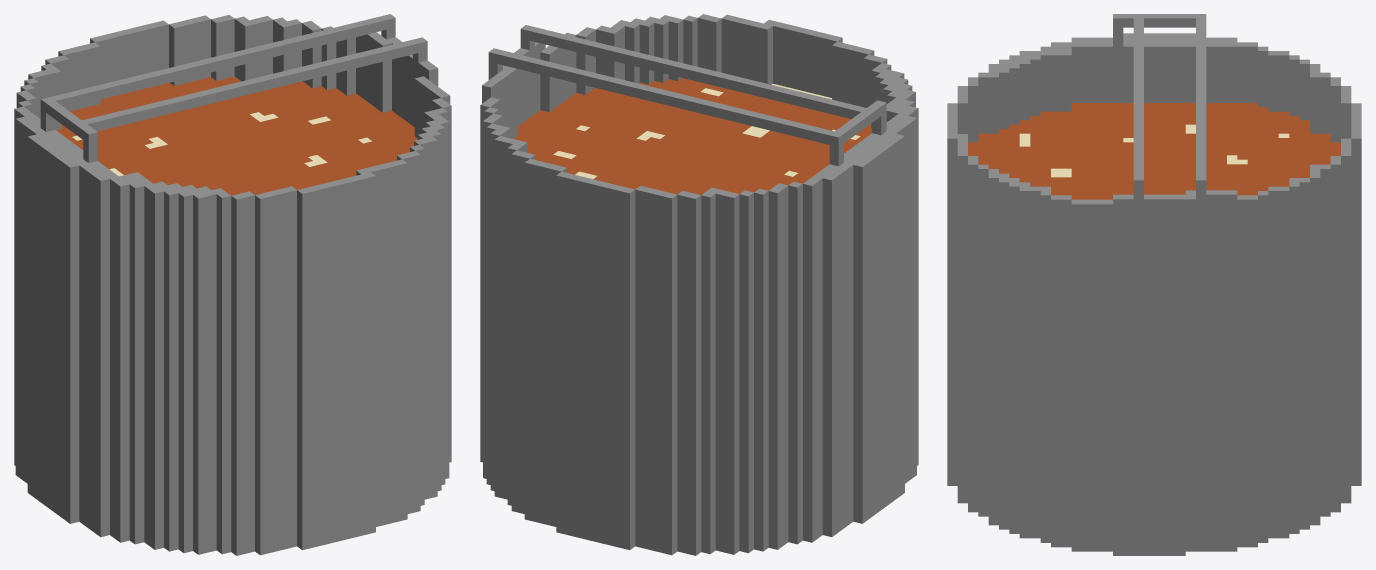
Rendered from StockBunBo.obj.
The picture shows the model from 3 angles, left to right: view 1: azimuth 30°, elevation 25°; view 2: azimuth 150°, elevation 25°; view 3: azimuth 270°, elevation 25°; orthographic projection. The views are drawn at different scales.
Bounding box in the file's own units: 4 × 4 × 4.
1 material, 1 textured.
